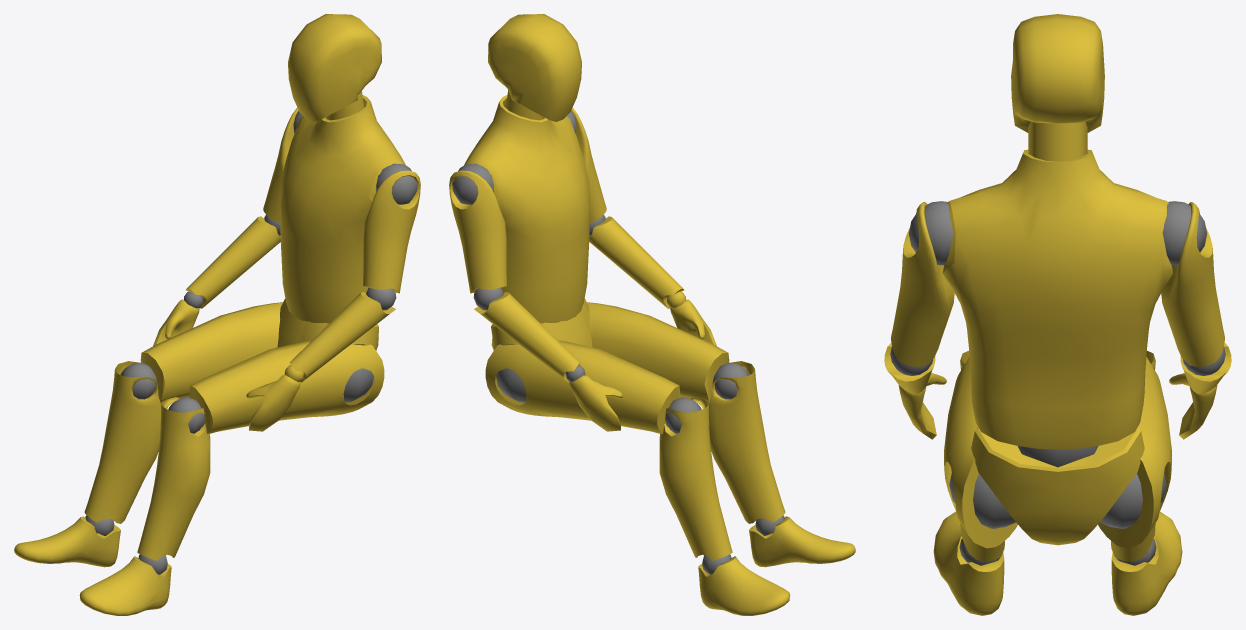
Rendered from CrashTestDummy.fbx.
3 views of the same model, side by side, from view 1: azimuth 30°, elevation 25°; view 2: azimuth 150°, elevation 25°; view 3: azimuth 270°, elevation 25° (orthographic). The views are drawn at different scales.
Visible parts, largest first — view 1: props.001; view 2: props.001; view 3: props.001.
Part boxes in pixels (box(x1,y1,x2,y2)): props.001: box(14, 14, 420, 615); props.001: box(449, 14, 855, 615); props.001: box(884, 14, 1231, 615).
Size of the model in its own units: 70.84 by 103 by 43.94.
